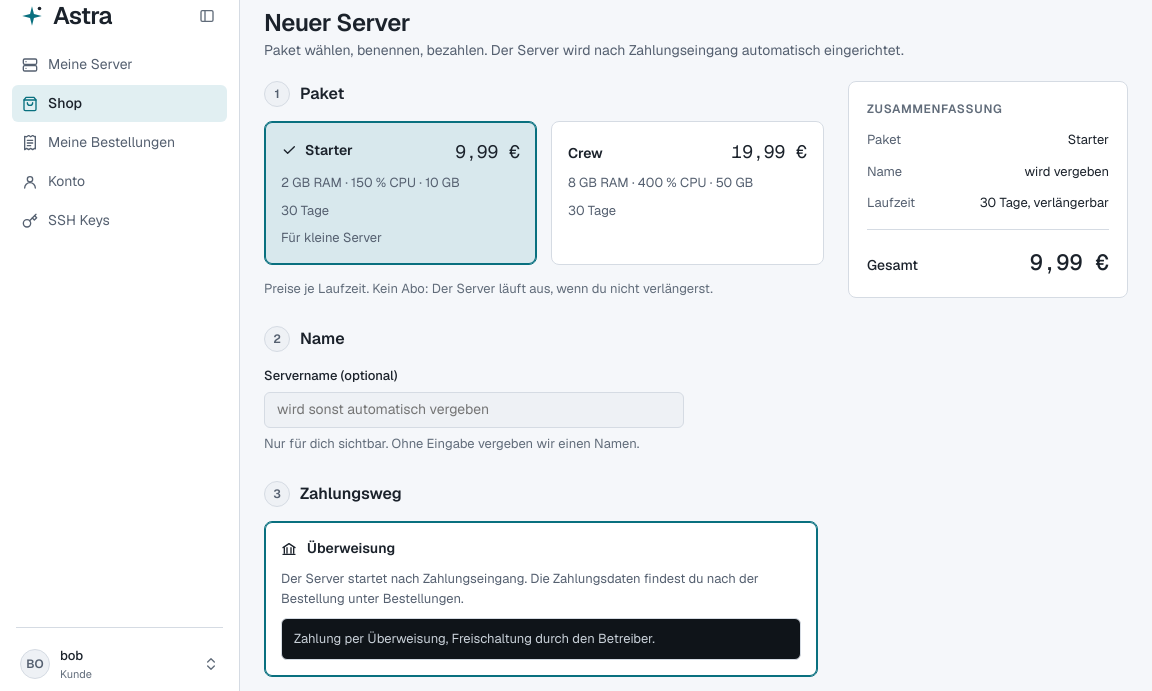
Test: ShopPage › bestellt per Ueberweisung mit Servername und weist auf die Freischaltung nach Zahlung hin
Step 1. Click the radio button labelled "Crew 19,99 € 8 GB RAM · 400 % CPU · 50 GB 30 Tage" → point(688, 193), box [551,121,824,264]
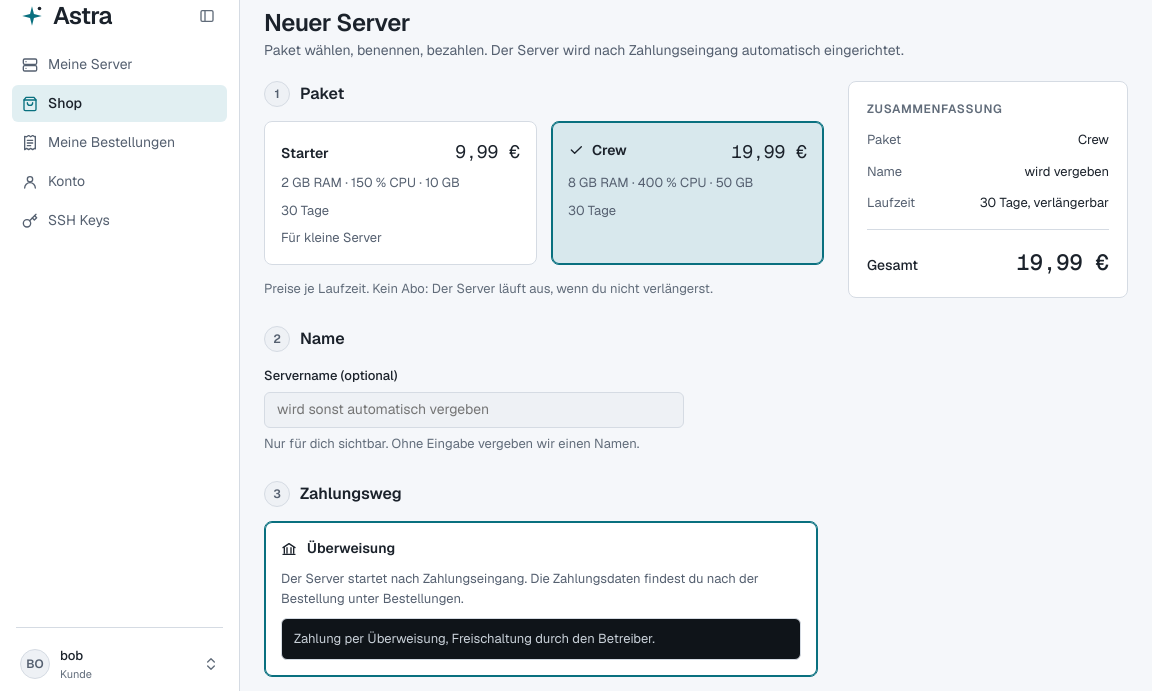
Step 2. Type "  Mein Server " into the field labelled "Servername (optional)" → point(474, 410), box [264,392,684,428]
(page scrolled)
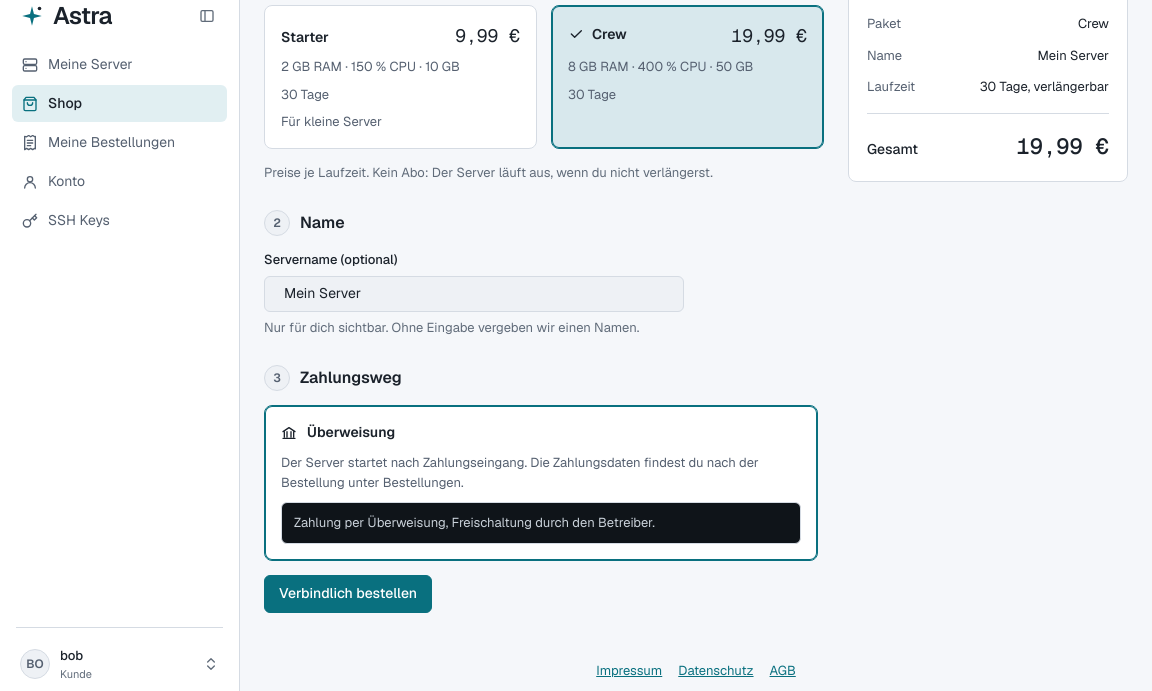
Expected: the text "Überweisung" is shown, [281,423,395,441]
Step 3. Click the button "Verbindlich bestellen" → point(348, 594), box [264,574,432,612]
(page scrolled)
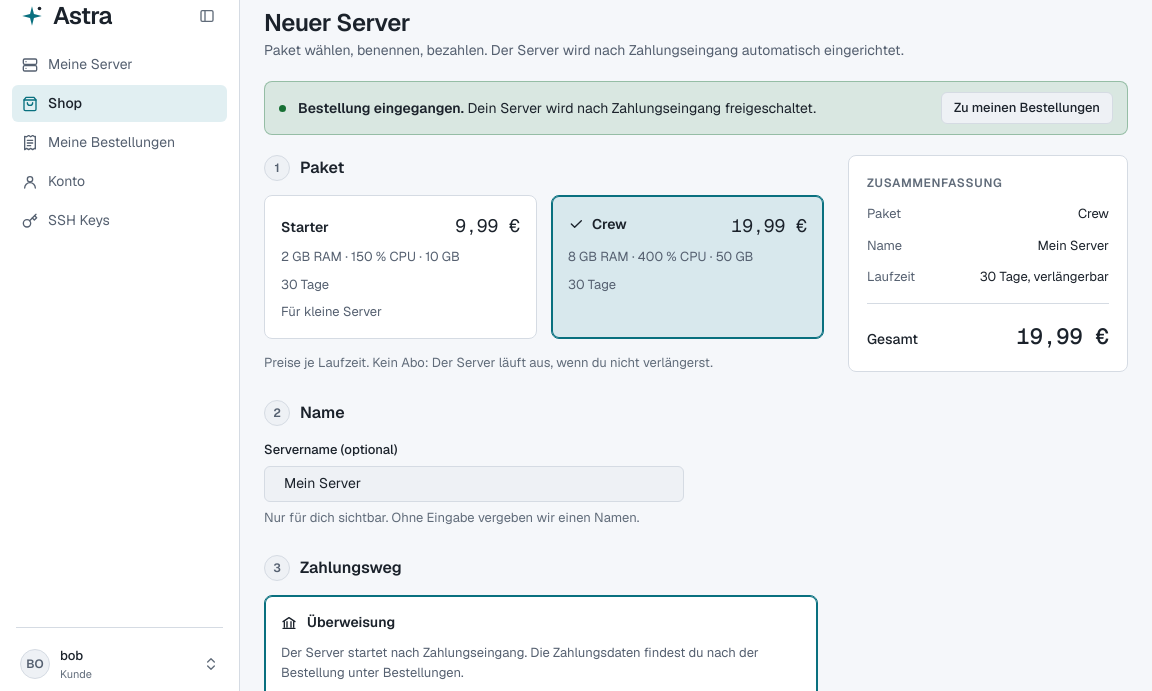
Now the text "Bestellung eingegangen." is shown, box [298,98,464,116]
Now the text "nach Zahlungseingang freigeschaltet" is shown, box [467,98,816,116]
